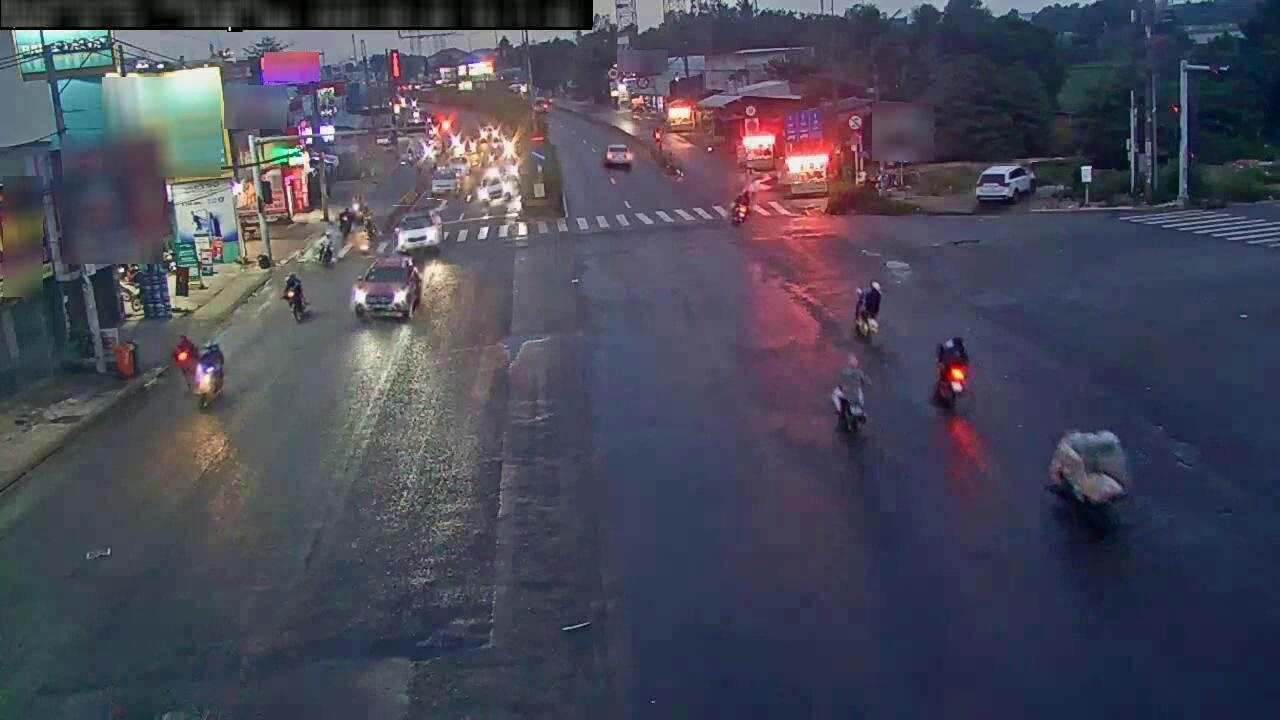Car: (1046, 431, 1131, 510), (352, 255, 420, 321), (975, 165, 1035, 203), (394, 211, 443, 254), (477, 167, 514, 205), (430, 166, 460, 198), (603, 144, 632, 168)
Motorcycle: (933, 336, 969, 409), (194, 343, 224, 409), (935, 361, 967, 408), (318, 237, 335, 268), (730, 199, 749, 225)
Motorcyclist: (831, 354, 867, 433), (854, 281, 881, 341), (172, 334, 199, 391), (352, 202, 380, 246), (282, 273, 307, 322), (337, 206, 357, 241)
Traffic light: (390, 50, 401, 79)
